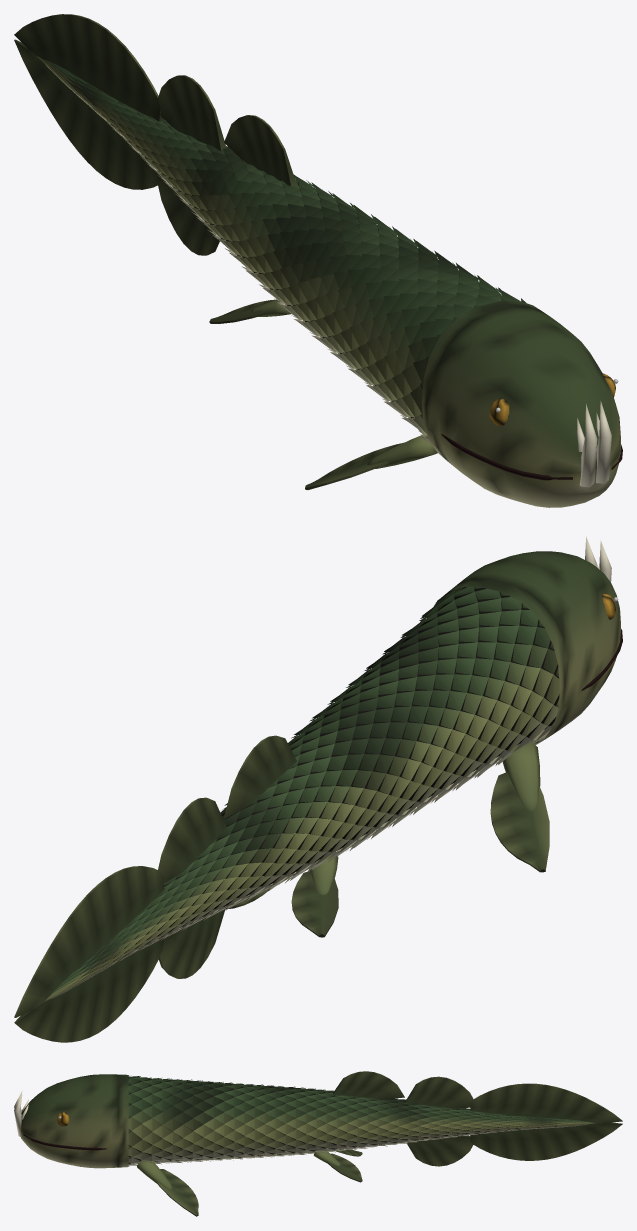
Rendered from Onychodus.fbx.
3 views of the same model, one above another, from view 1: azimuth 30°, elevation 25°; view 2: azimuth 150°, elevation 25°; view 3: azimuth 270°, elevation 25° (orthographic). The views are drawn at different scales.
Parts seen in each view (by area): view 1: Onychodus; view 2: Onychodus; view 3: Onychodus.
Boxes of the visible parts, <box> form: Onychodus: <box>14,14,622,507</box>; Onychodus: <box>14,536,622,1042</box>; Onychodus: <box>14,1071,622,1216</box>.
Size of the model in its own units: 0.3975 by 0.3506 by 1.68.
